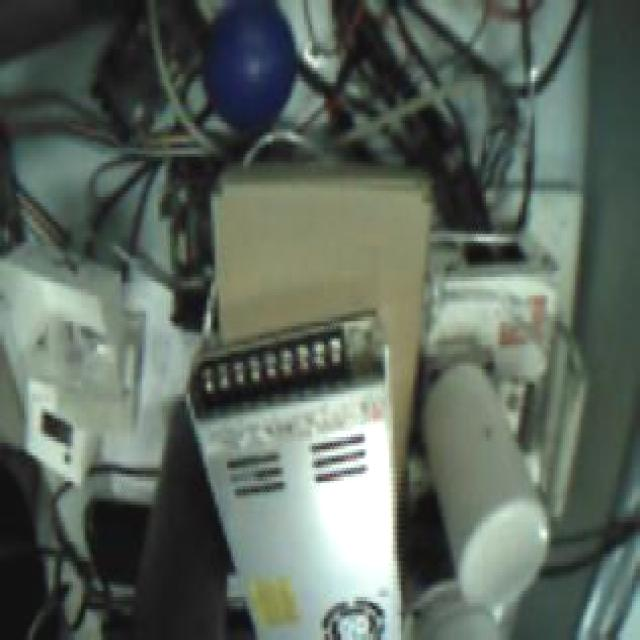BallPurple: (202, 1, 296, 134)
